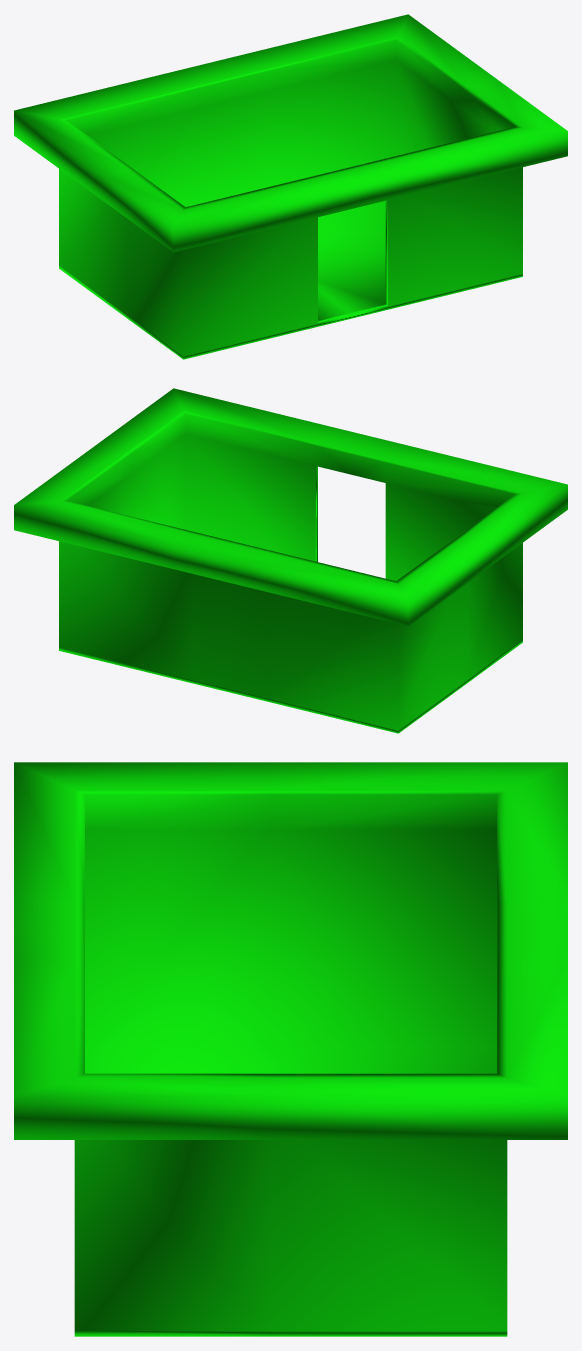
File: mdl_Corredor_Pareded_Grande.fbx
3 renders of one model, top to bottom at view 1: azimuth 30°, elevation 25°; view 2: azimuth 150°, elevation 25°; view 3: azimuth 270°, elevation 25°, orthographic. The views are drawn at different scales.
Parts seen in each view (by area): view 1: mdl_Corredor_Pareded_Grande; view 2: mdl_Corredor_Pareded_Grande; view 3: mdl_Corredor_Pareded_Grande.
Boxes of the visible parts, box(x1,y1,x2,y2) form: mdl_Corredor_Pareded_Grande: box(14, 14, 567, 359); mdl_Corredor_Pareded_Grande: box(14, 388, 567, 733); mdl_Corredor_Pareded_Grande: box(14, 762, 567, 1336).
Size of the model in its own units: 10.07 by 3.7 by 7.06.
